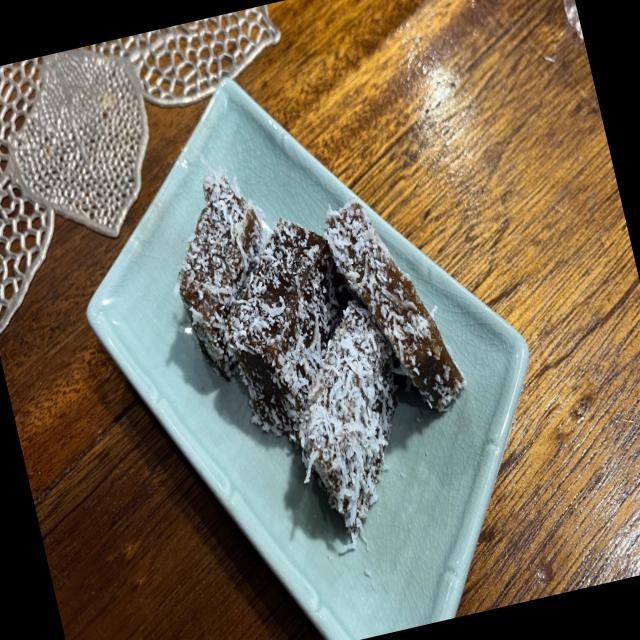kaswi: (324, 200, 464, 411), (225, 217, 346, 442), (299, 301, 397, 550), (174, 156, 261, 380)
